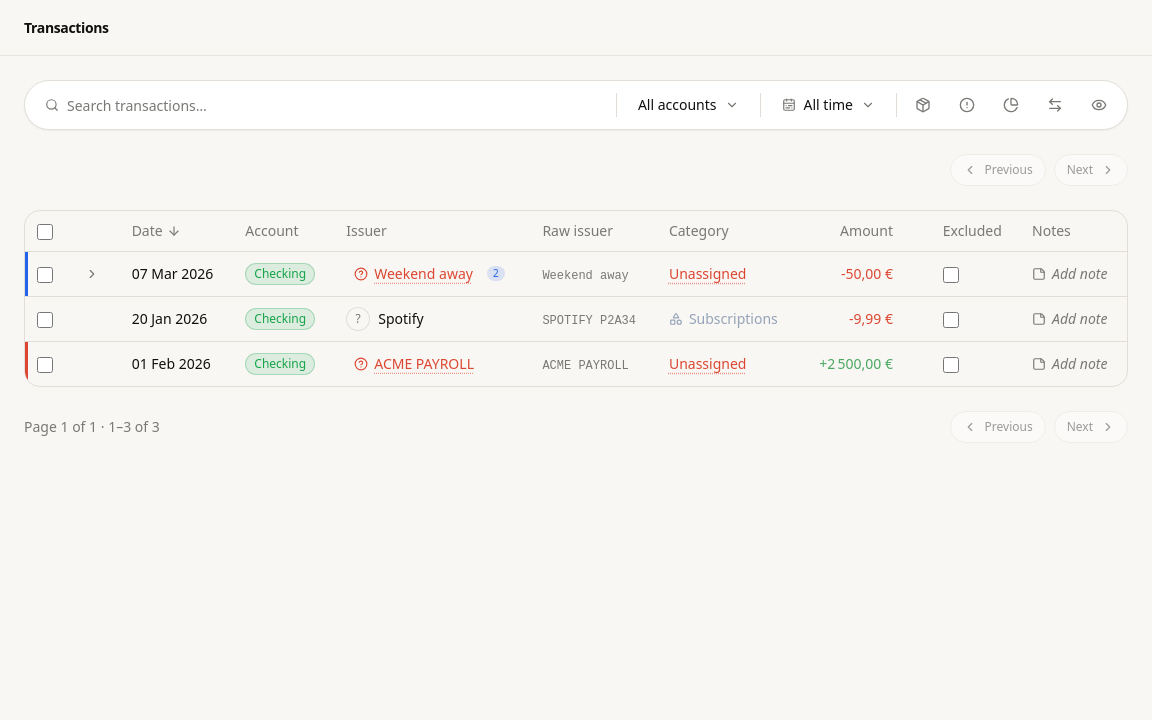
Test: TransactionsView › bundle expansion (issue #73) › shows members for reading, never as rows of the page
Expected: the button "ACME PAYROLL" is shown, [346,352,482,376]
Click the button named "show the 2 transactions in weekend away" at point(92, 274), box [80,262,104,286]
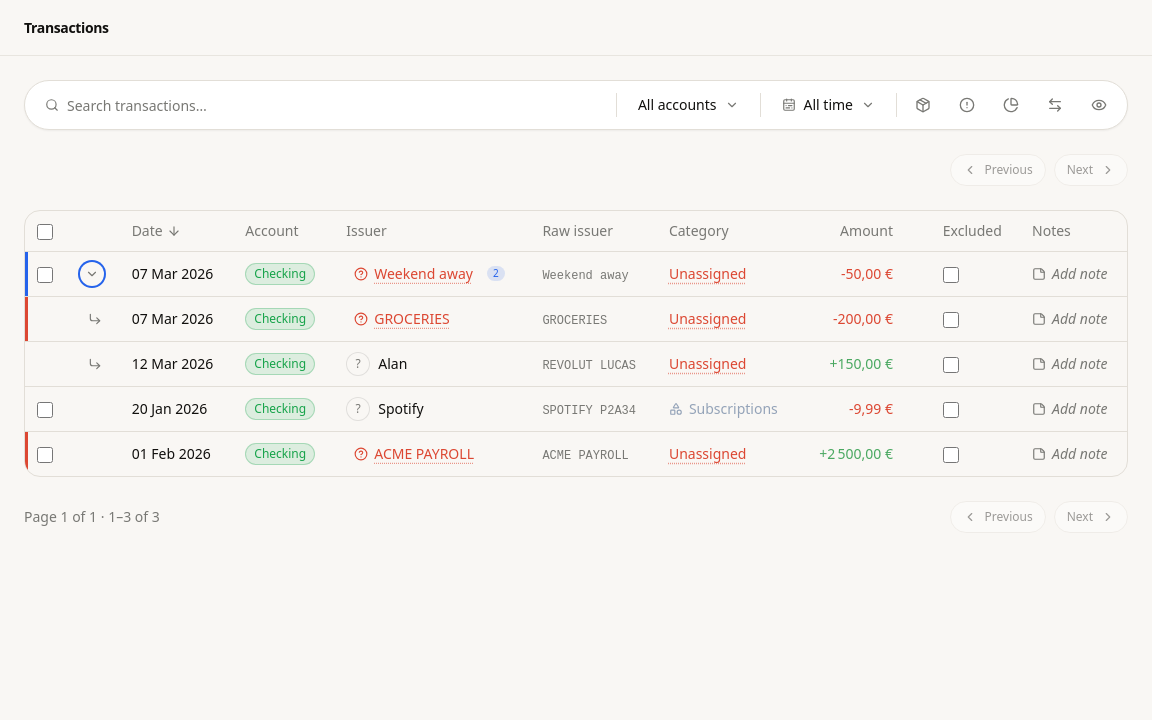
Click the checkbox named "select all rows on this page" at point(45, 232), box [37,224,53,240]
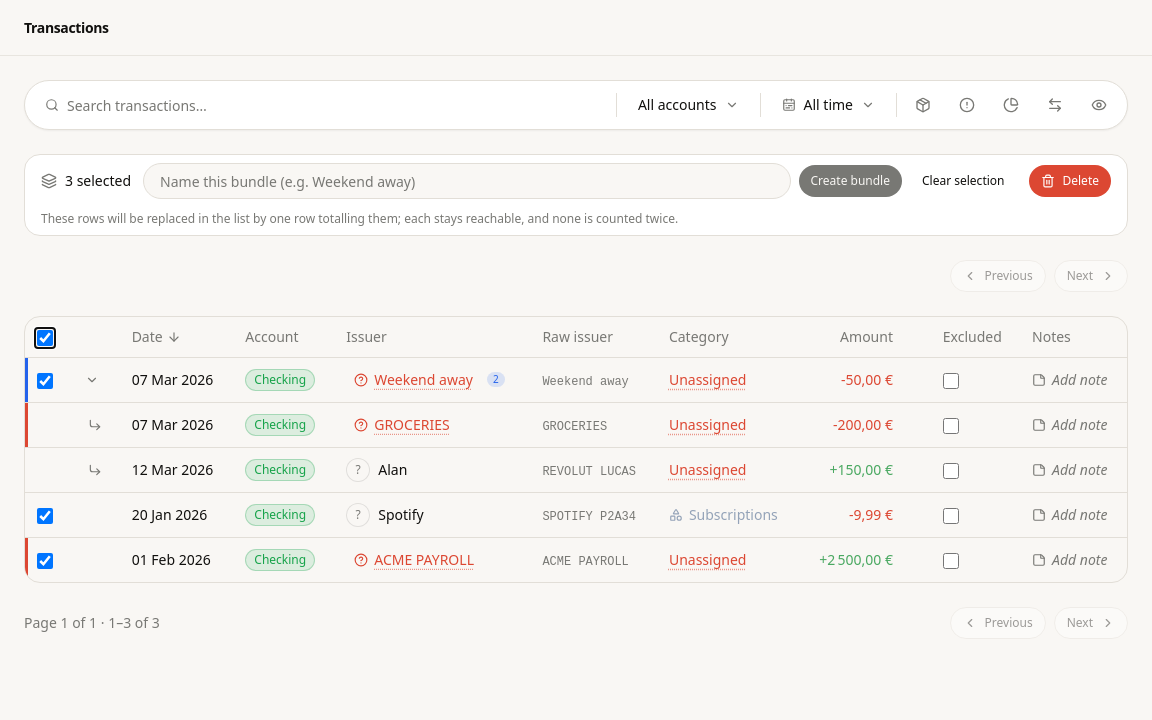
Expected: the text named "Pagination range" shows "1–3 of 3", [24,612,160,632]
Result: the text "3 selected" is shown at [41,171,131,191]
